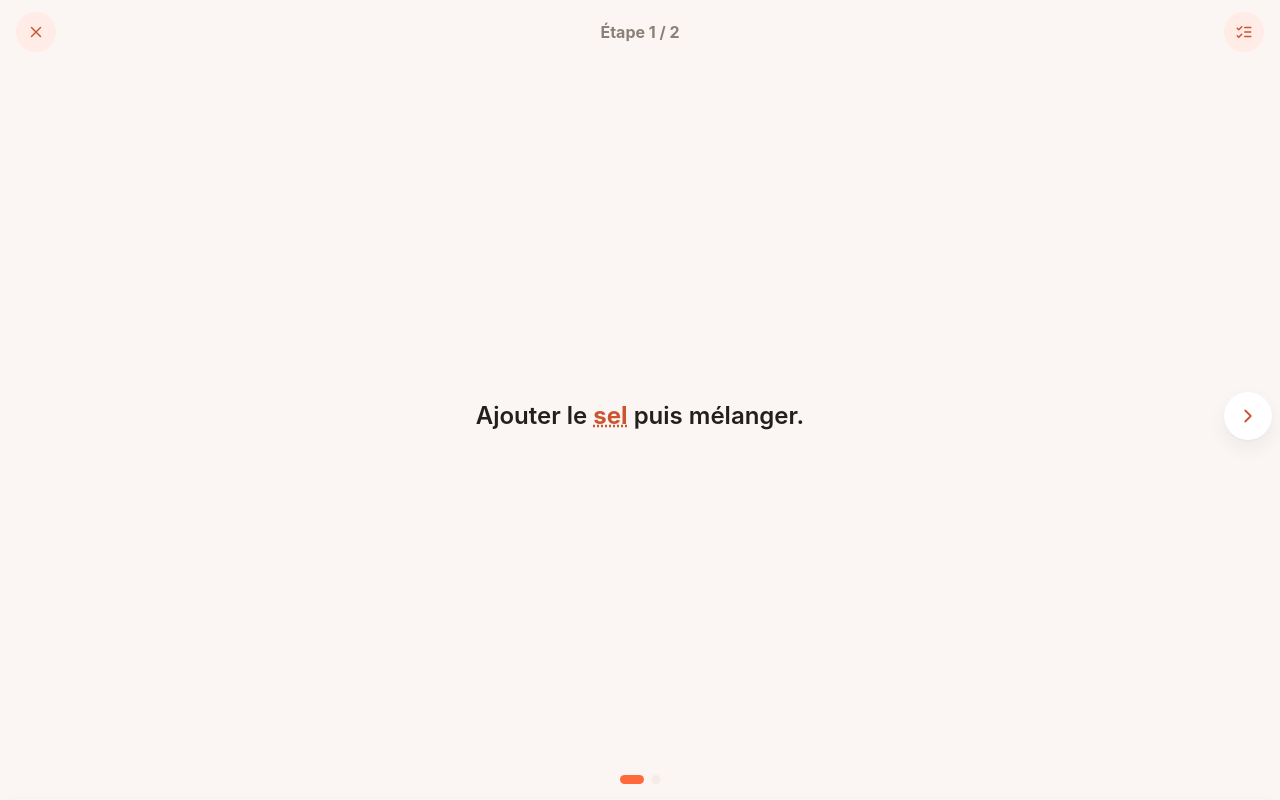
Scenario: RecipeCookMode › navigates between steps with a swipe gesture
Press the mouse on the element with class "cook-mode-body" at (535, 415), box [476,392,1272,440]
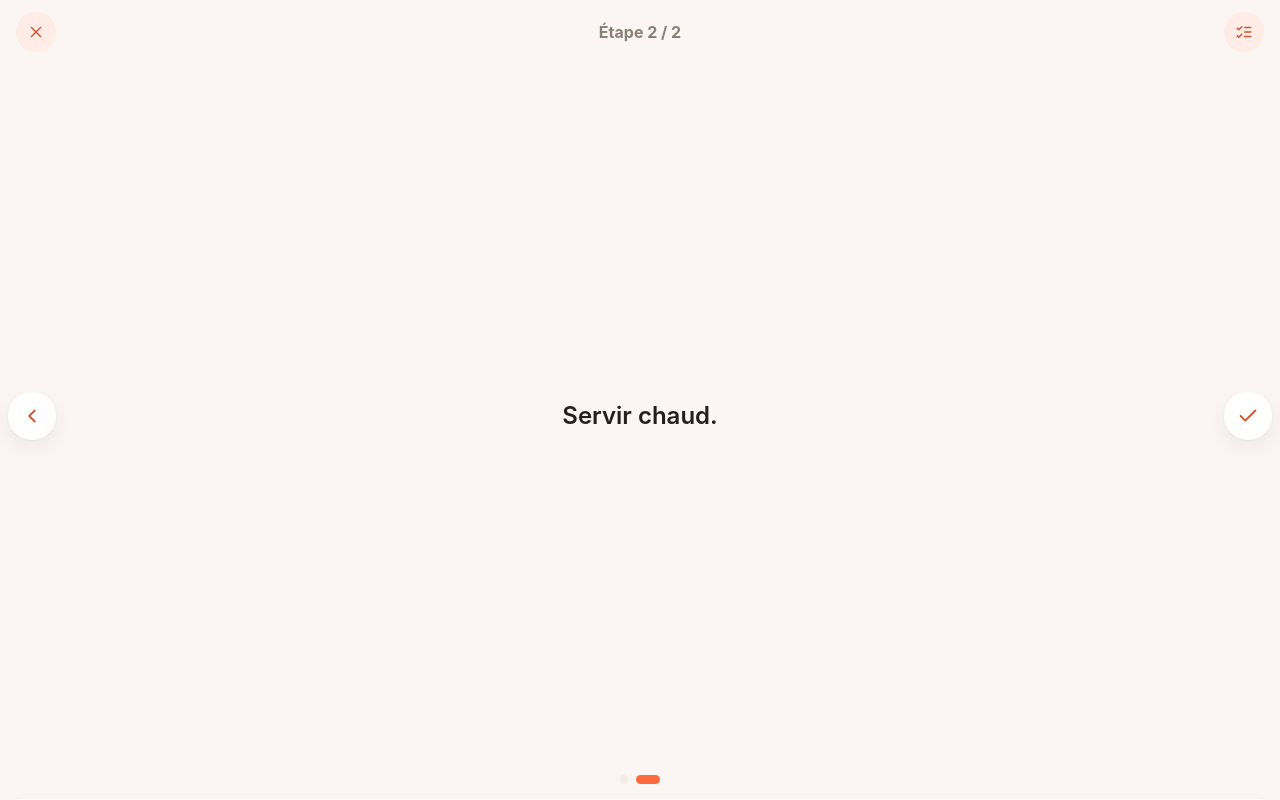
expect the text "Étape 2 / 2" is shown: met, box [599,22,681,42]
Press the mouse on the element with class "cook-mode-body" at (640, 416), box [8,392,1272,440]
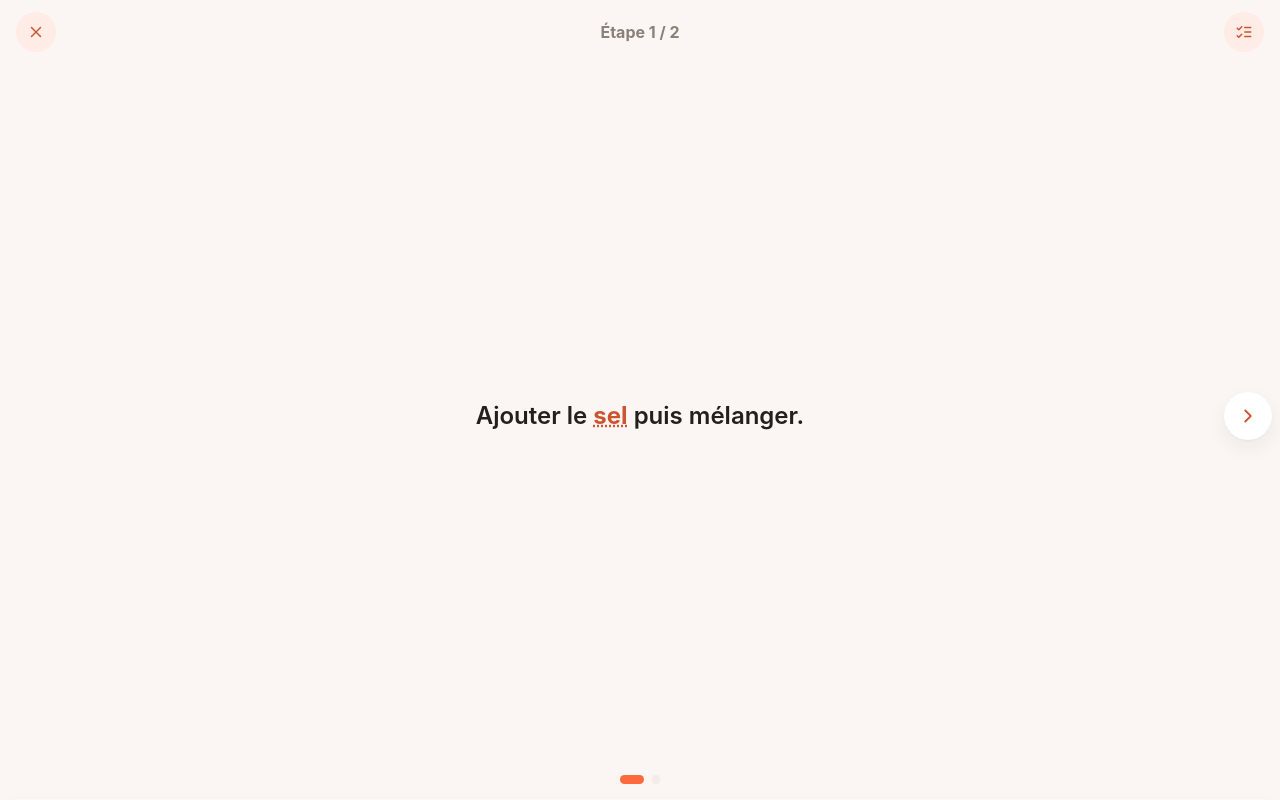
expect the text "Étape 1 / 2" is shown: met, box [600,22,680,42]
